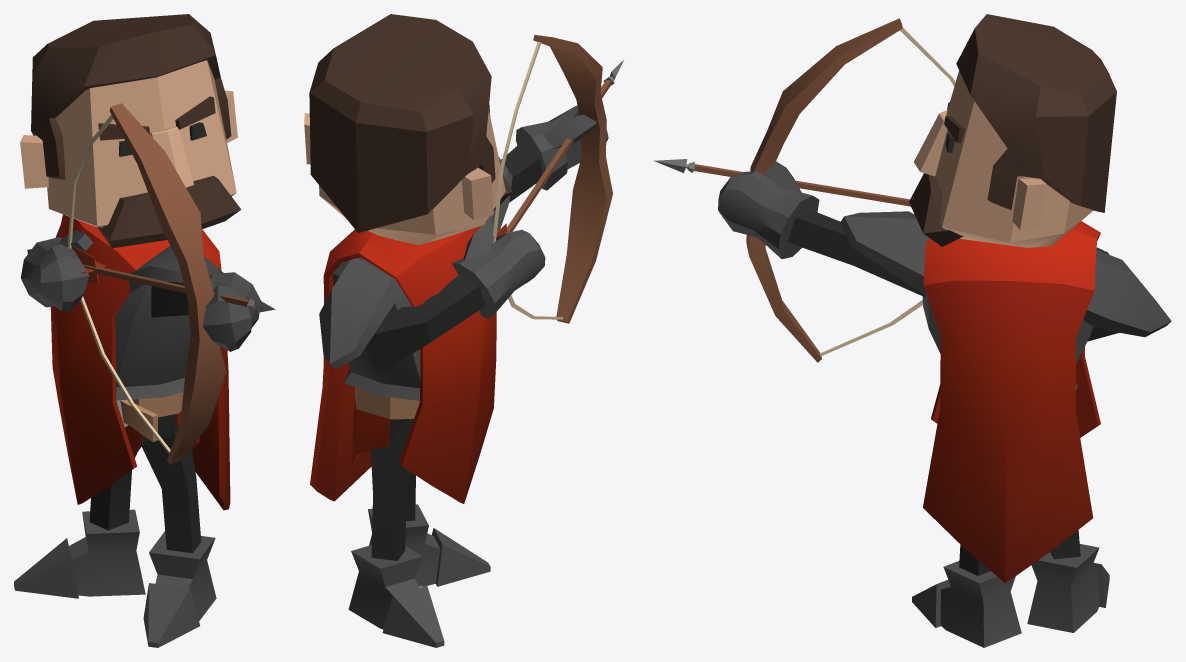
The model's file is Warrior_3.fbx.
The picture shows the model from 3 angles, left to right: view 1: azimuth 30°, elevation 25°; view 2: azimuth 150°, elevation 25°; view 3: azimuth 270°, elevation 25°; orthographic projection. The views are drawn at different scales.
Parts seen in each view (by area): view 1: Warrior_3; view 2: Warrior_3; view 3: Warrior_3.
Boxes of the visible parts, x1=… form: Warrior_3: x1=14, y1=14, x2=275, y2=647; Warrior_3: x1=304, y1=14, x2=623, y2=647; Warrior_3: x1=653, y1=14, x2=1171, y2=647.
Size of the model in its own units: 48.74 by 123 by 98.63.
